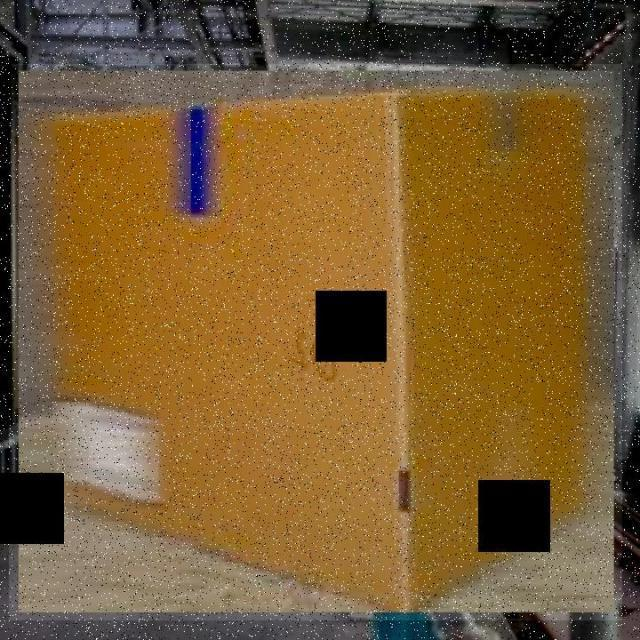box: (9, 64, 622, 620)
